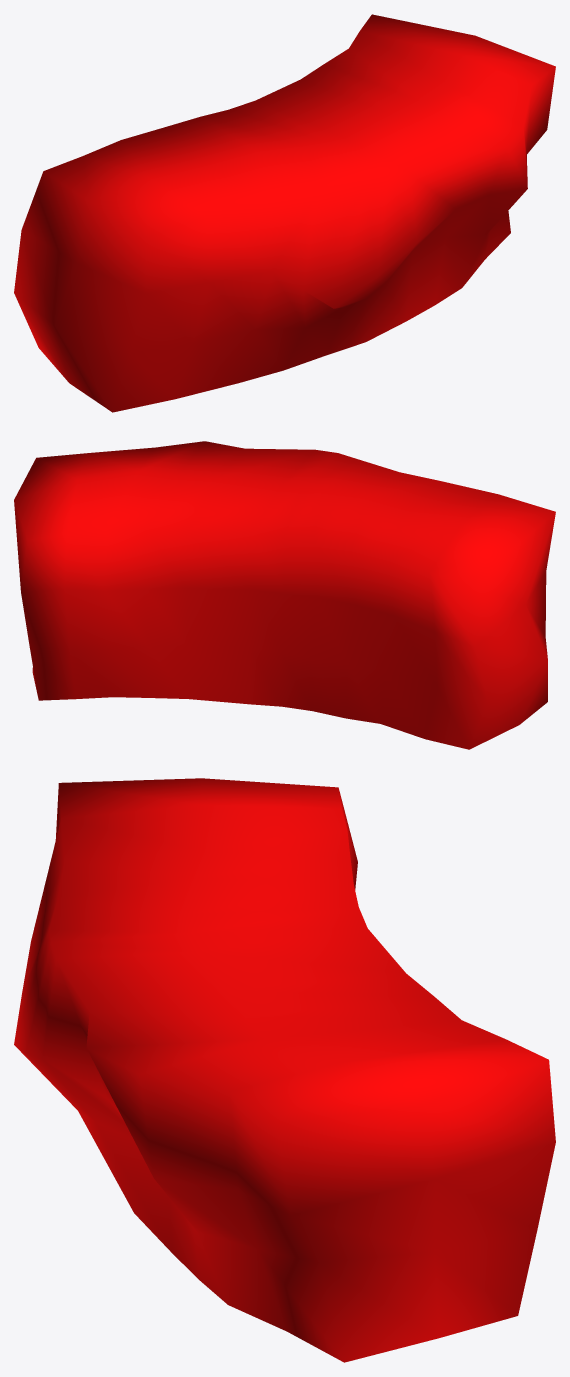
File: WalkableRock3.fbx
3 renders of one model, top to bottom at view 1: azimuth 30°, elevation 25°; view 2: azimuth 150°, elevation 25°; view 3: azimuth 270°, elevation 25°, orthographic. The views are drawn at different scales.
Parts seen in each view (by area): view 1: WalkableRock3; view 2: WalkableRock3; view 3: WalkableRock3.
Boxes of the visible parts, bbox=[...] form: WalkableRock3: bbox=[14, 14, 555, 412]; WalkableRock3: bbox=[14, 441, 555, 749]; WalkableRock3: bbox=[14, 778, 555, 1362].
Bounding box in the file's own units: 592 × 213 × 372.
